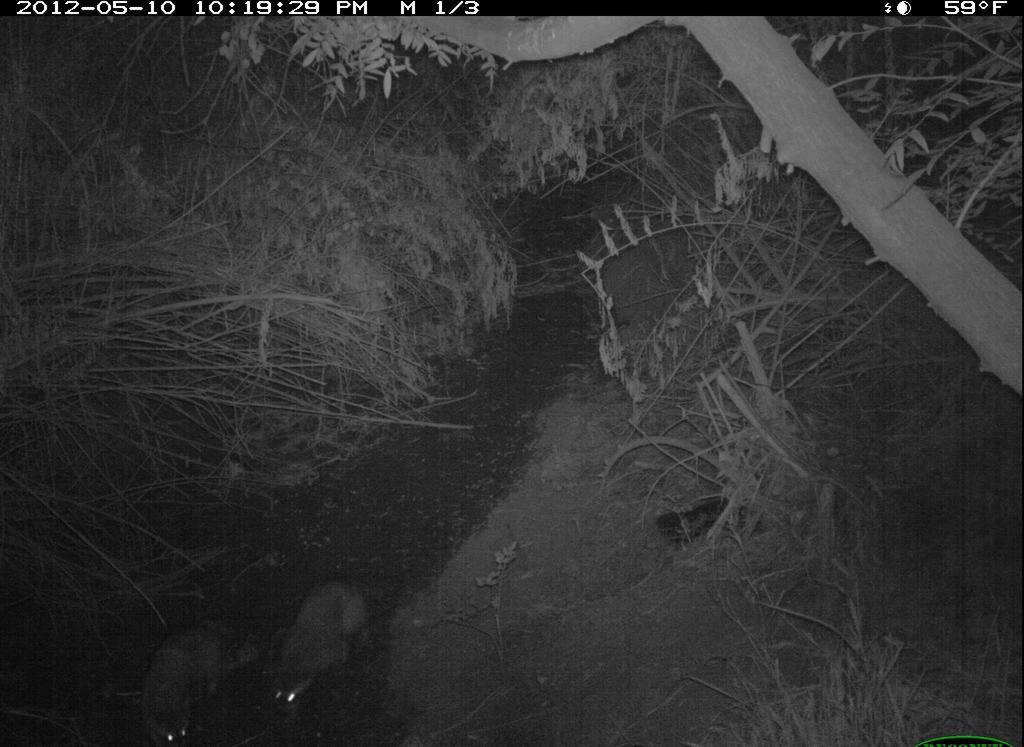raccoon: (263, 578, 386, 722)
